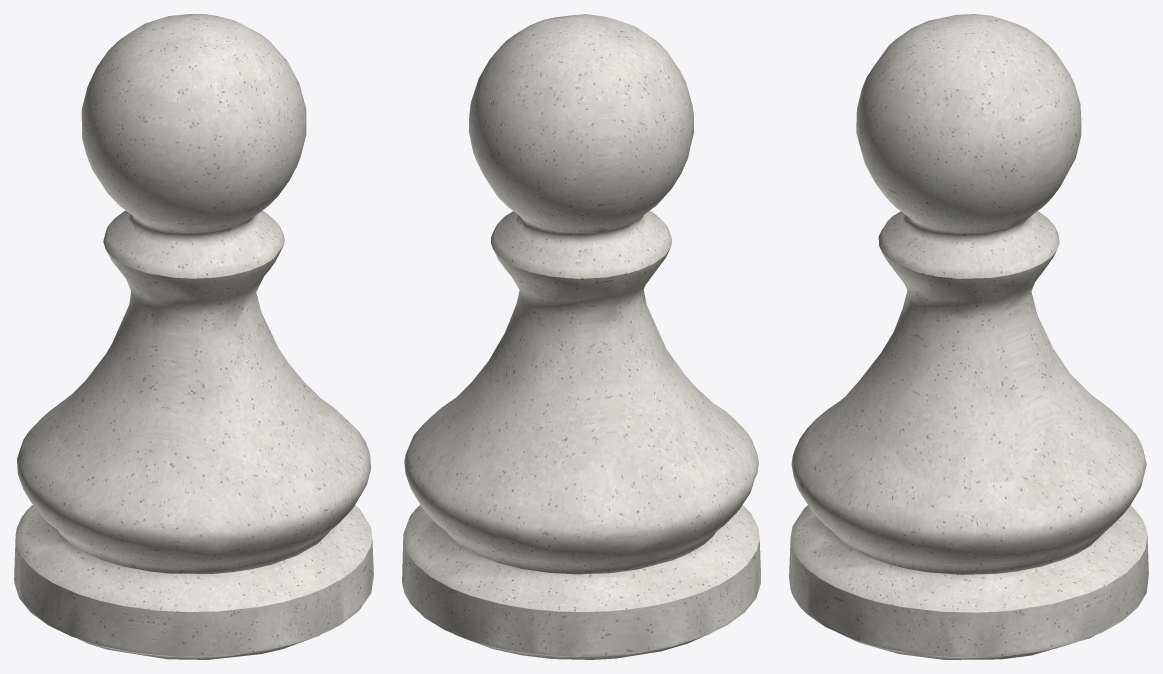
File: pesec_bila.glb
3 renders of one model, left to right at view 1: azimuth 30°, elevation 25°; view 2: azimuth 150°, elevation 25°; view 3: azimuth 270°, elevation 25°, orthographic.
Visible parts, largest first — view 1: pesec_bila; view 2: pesec_bila; view 3: pesec_bila.
Boxes of the visible parts, x1,y1,x2,y2 form: pesec_bila: (14, 14, 373, 659); pesec_bila: (402, 14, 760, 659); pesec_bila: (789, 14, 1148, 659).
Size of the model in its own units: 0.0284 by 0.05 by 0.0284.
1 material, 1 textured.
